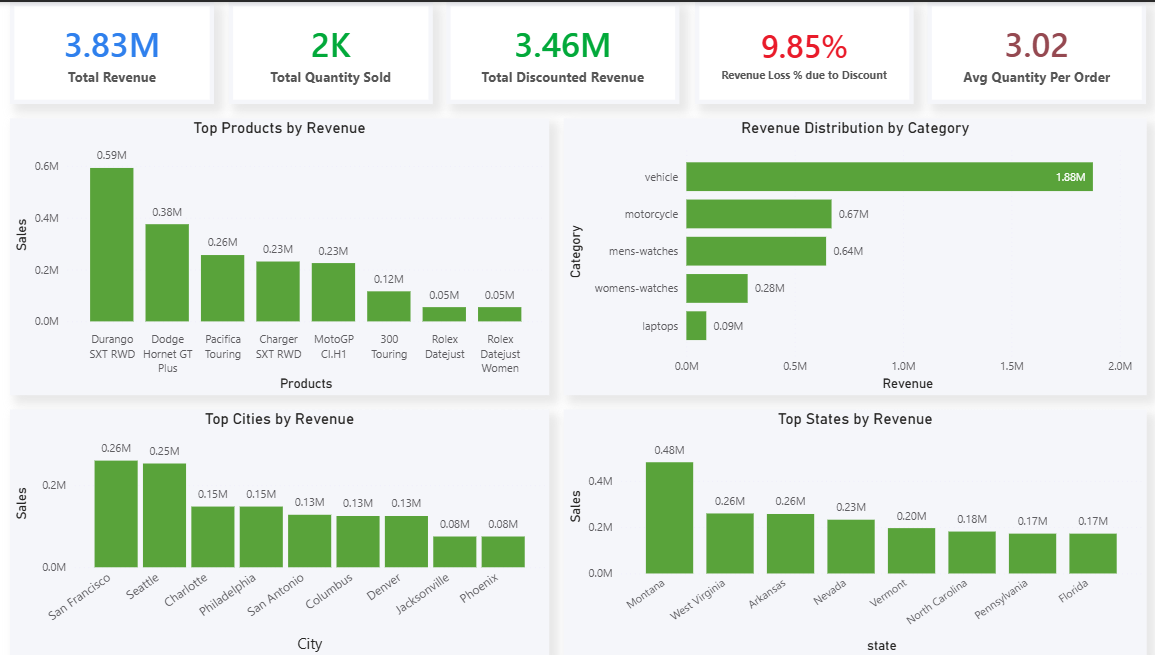

Layout of this report page (visuals, bound fields, positions):
{"tool":"powerbi","page":{"name":"OverView","canvas":[1280,720],"ordinal":0},"visuals":[{"type":"cardVisual","fields":{"Data":["ecommerce_db orders.Total Revenue"]},"box":[16,0,224,112],"z":0},{"type":"cardVisual","fields":{"Data":["ecommerce_db orders.Total Quantity Sold"]},"box":[256,0,224,112],"z":1000},{"type":"cardVisual","fields":{"Data":["ecommerce_db orders.Total Discounted Revenue"]},"box":[496,0,256,112],"z":2000},{"type":"cardVisual","fields":{"Data":["ecommerce_db orders.loss percentage"]},"box":[768,0,240,112],"z":3000},{"type":"cardVisual","fields":{"Data":["ecommerce_db orders.Average Quantity Sold"]},"box":[1024,0,240,112],"z":4000},{"type":"clusteredColumnChart","title":"Top Products by Revenue","fields":{"Y":["Sum(ecommerce_db orders.total)"],"Category":["ecommerce_db orders.product_name"]},"box":[16,128,592,304],"z":5000},{"type":"clusteredBarChart","title":"Revenue Distribution by Category","fields":{"Category":["ecommerce_db products.category"],"Y":["ecommerce_db orders.Total Revenue"]},"box":[624,128,640,304],"z":6000},{"type":"clusteredColumnChart","title":"Top Cities by Revenue","fields":{"Category":["ecommerce_db customers.city"],"Y":["Sum(ecommerce_db orders.total)"]},"box":[16,448,592,272],"z":7000},{"type":"clusteredColumnChart","title":"Top States by Revenue","fields":{"Y":["ecommerce_db orders.Total Revenue"],"Category":["ecommerce_db customers.state"]},"box":[624,448,640,272],"z":8000}]}

Visuals, with their boxes in screenshot pixels (x1, y1, x2, y2), scaled from the page's 1280x720 canvas onto the 1155x655 screenshot:
cardVisual - ecommerce_db orders.Total Revenue: [x1=14, y1=0, x2=217, y2=102]
cardVisual - ecommerce_db orders.Total Quantity Sold: [x1=231, y1=0, x2=433, y2=102]
cardVisual - ecommerce_db orders.Total Discounted Revenue: [x1=448, y1=0, x2=679, y2=102]
cardVisual - ecommerce_db orders.loss percentage: [x1=693, y1=0, x2=910, y2=102]
cardVisual - ecommerce_db orders.Average Quantity Sold: [x1=924, y1=0, x2=1141, y2=102]
"Top Products by Revenue" clusteredColumnChart: [x1=14, y1=116, x2=549, y2=393]
"Revenue Distribution by Category" clusteredBarChart: [x1=563, y1=116, x2=1141, y2=393]
"Top Cities by Revenue" clusteredColumnChart: [x1=14, y1=408, x2=549, y2=654]
"Top States by Revenue" clusteredColumnChart: [x1=563, y1=408, x2=1141, y2=654]
